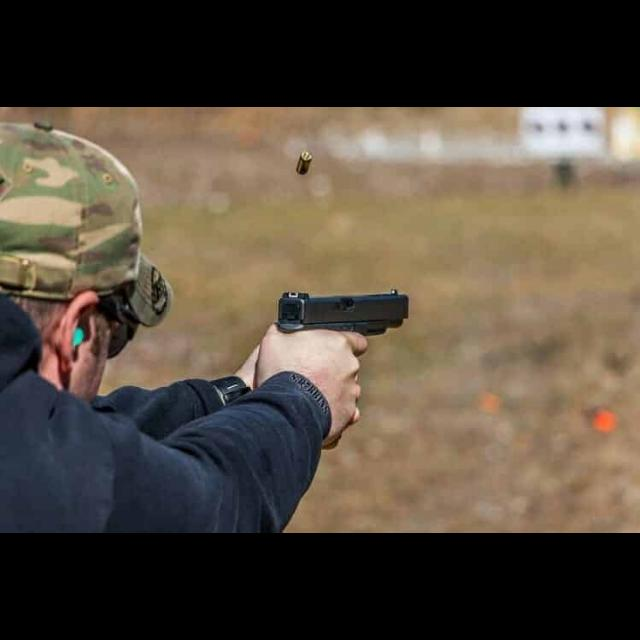handgun: (274, 283, 414, 341)
